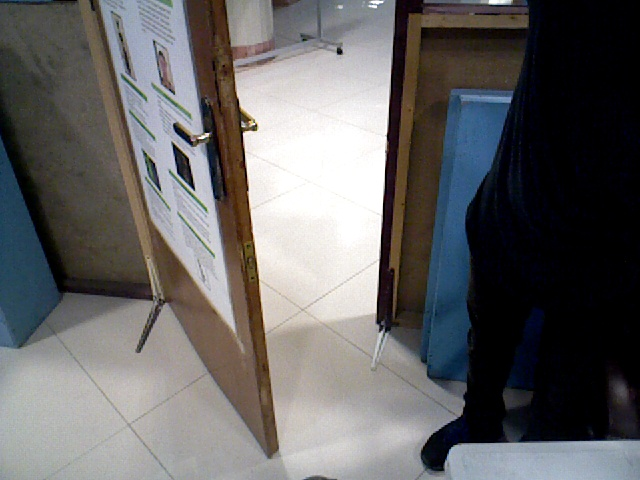door_handle: (174, 95, 228, 206)
